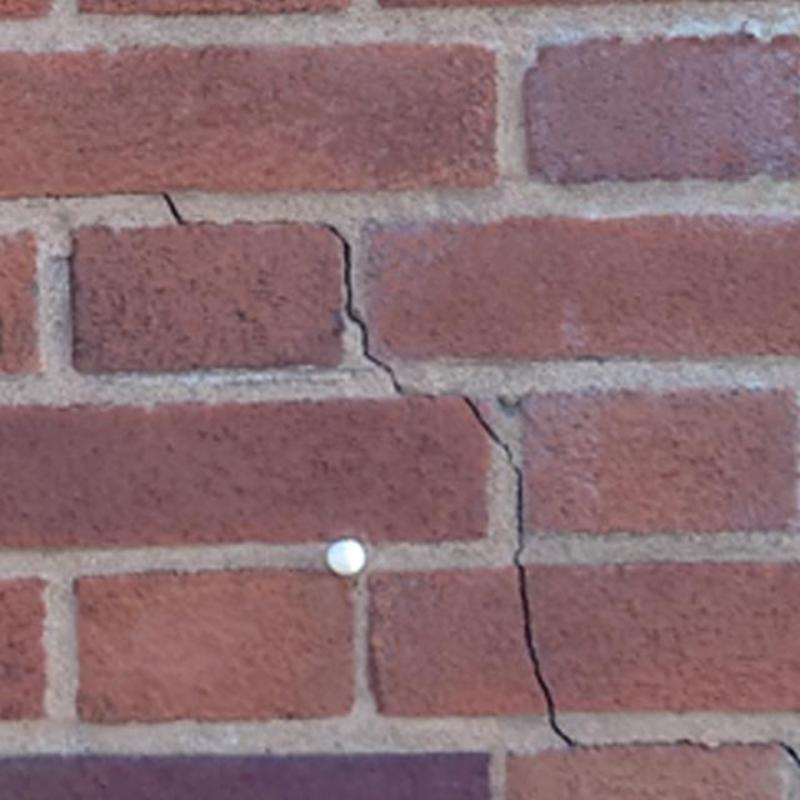pothole: (459, 393, 575, 747), (326, 223, 403, 395), (574, 739, 780, 749), (162, 194, 184, 225), (780, 742, 799, 770)
